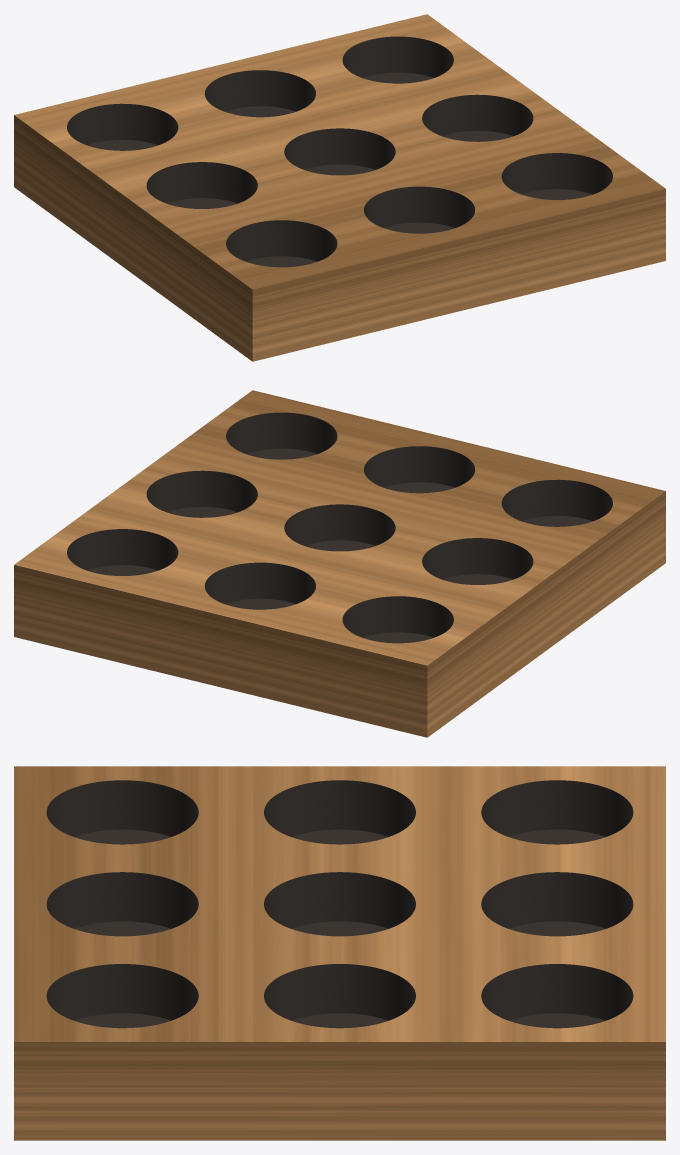
File: WhackAMole_Board.obj
The picture shows the model from 3 angles, top to bottom: view 1: azimuth 30°, elevation 25°; view 2: azimuth 150°, elevation 25°; view 3: azimuth 270°, elevation 25°; orthographic projection. The views are drawn at different scales.
Parts seen in each view (by area): view 1: WhackAMole_Board; view 2: WhackAMole_Board; view 3: WhackAMole_Board.
Part boxes in pixels (x1=…): WhackAMole_Board: x1=14, y1=14, x2=665, y2=361; WhackAMole_Board: x1=14, y1=390, x2=665, y2=737; WhackAMole_Board: x1=14, y1=766, x2=665, y2=1140.
Bounding box in the file's own units: 6 × 1 × 6.
2 materials, 2 textured.
